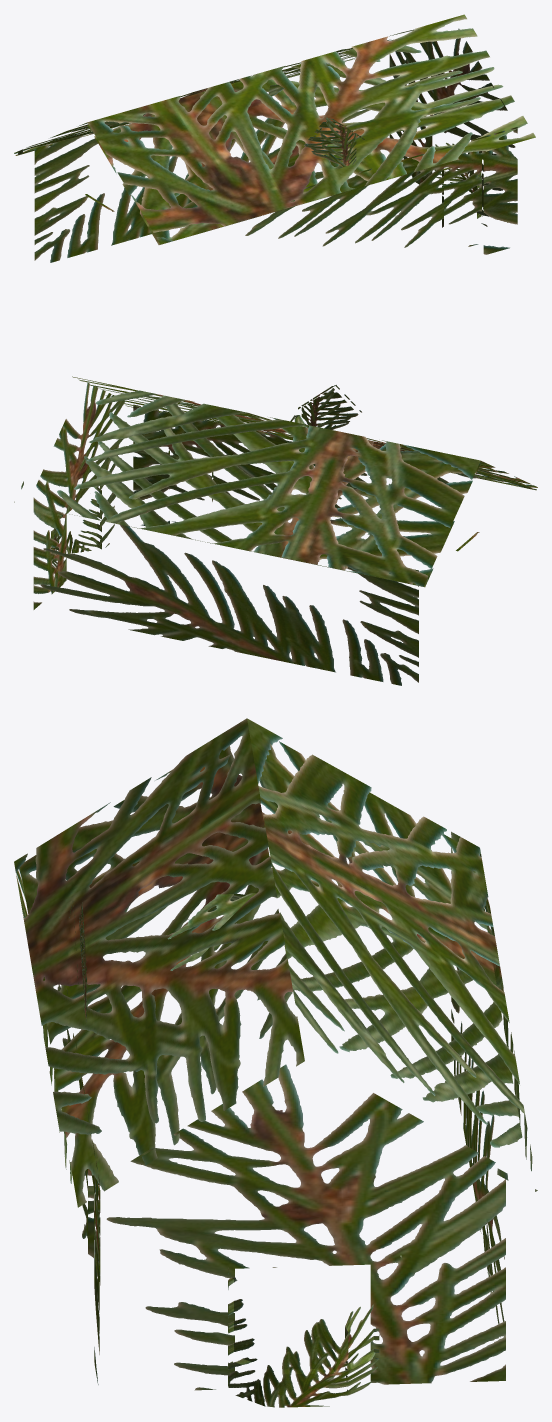
The model's file is cottage.obj.
The picture shows the model from 3 angles, top to bottom: view 1: azimuth 30°, elevation 25°; view 2: azimuth 150°, elevation 25°; view 3: azimuth 270°, elevation 25°; orthographic projection. The views are drawn at different scales.
Visible parts, largest first — view 1: Cube; view 2: Cube; view 3: Cube.
Boxes of the visible parts, x1,y1,x2,y2 form: Cube: (14, 14, 535, 262); Cube: (14, 376, 537, 685); Cube: (14, 718, 537, 1407).
Bounding box in the file's own units: 33.93 × 14.67 × 20.74.
